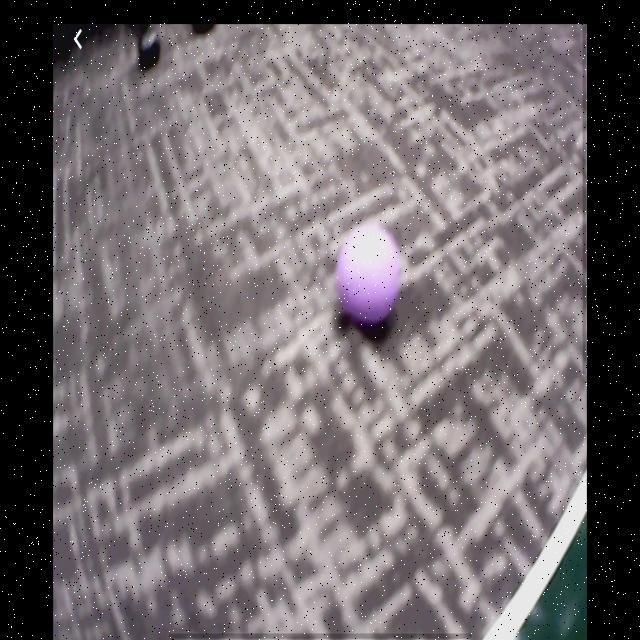ball: (338, 223, 404, 326)
